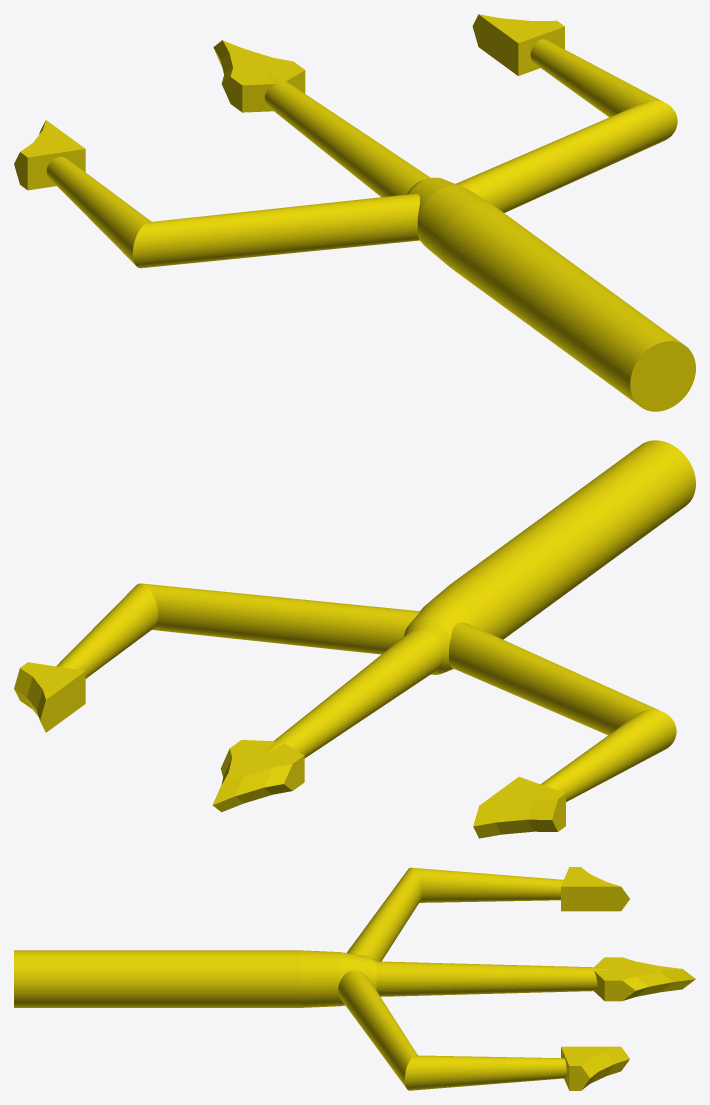
File: TridentIcon.fbx
The picture shows the model from 3 angles, top to bottom: view 1: azimuth 30°, elevation 25°; view 2: azimuth 150°, elevation 25°; view 3: azimuth 270°, elevation 25°; orthographic projection. The views are drawn at different scales.
Visible parts, largest first — view 1: Cylinder.002; view 2: Cylinder.002; view 3: Cylinder.002.
Boxes of the visible parts, x1=… form: Cylinder.002: x1=14, y1=14, x2=695, y2=411; Cylinder.002: x1=14, y1=440, x2=695, y2=838; Cylinder.002: x1=14, y1=867, x2=695, y2=1090.
Bounding box in the file's own units: 205 × 24.83 × 294.
